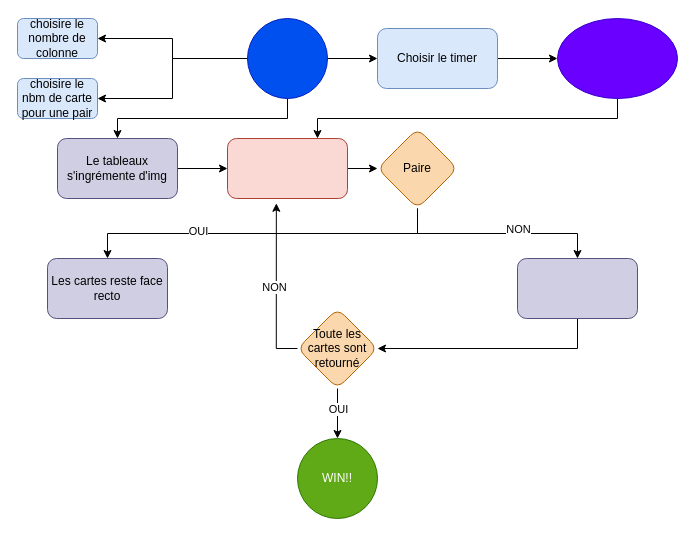
Some shapes in this 695 by 536 pixel diagram are drawn without their labels. The shapes that lost their labels are listed below. From the top down, each one's centre as x and y in pixels, then its label:
the point at 287,58: Debut de partie
the point at 617,58: Timer 5min
the point at 287,168: Le joueur retourn deux cartes
the point at 577,288: Les cartes retourn en position verso
